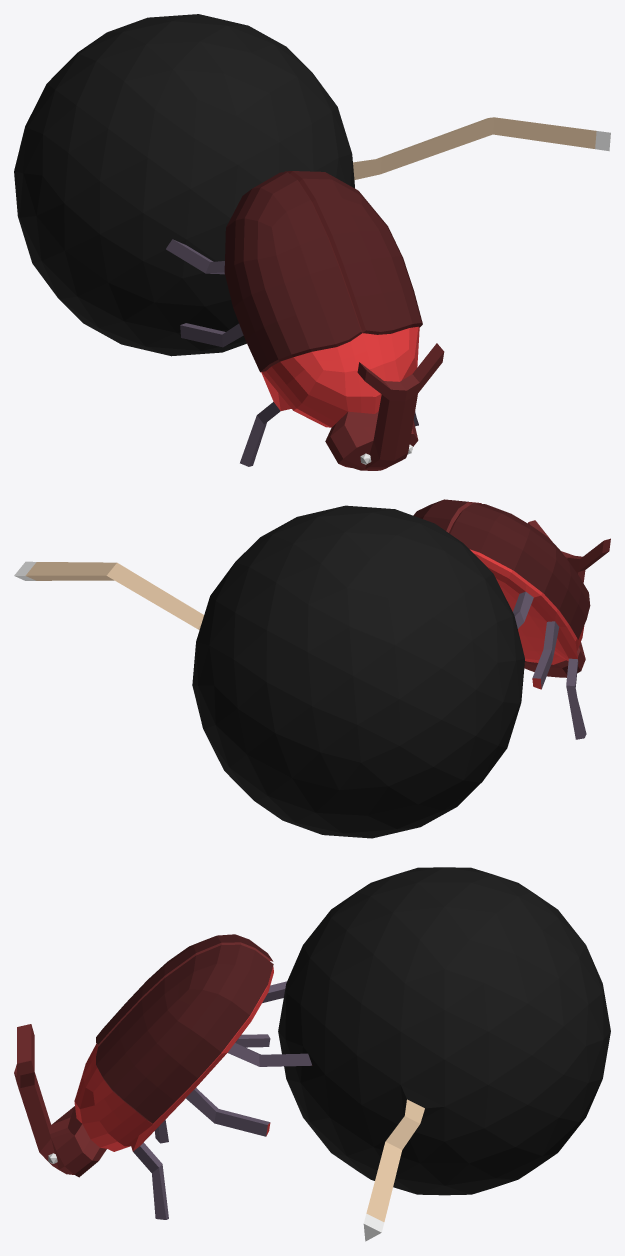
The model's file is Escarabajo rinoceronte bomba.fbx.
3 renders of one model, top to bottom at view 1: azimuth 30°, elevation 25°; view 2: azimuth 150°, elevation 25°; view 3: azimuth 270°, elevation 25°, orthographic. The views are drawn at different scales.
Visible parts, largest first — view 1: Bomba, Escarabajo; view 2: Bomba, Escarabajo; view 3: Bomba, Escarabajo.
Part boxes in pixels (x1,y1,x2,y2): Bomba: (14,14,610,356); Escarabajo: (166,171,444,470); Bomba: (14,505,524,838); Escarabajo: (413,499,610,739); Bomba: (278,867,610,1241); Escarabajo: (14,934,311,1219).
Size of the model in its own units: 627 by 345 by 625.
